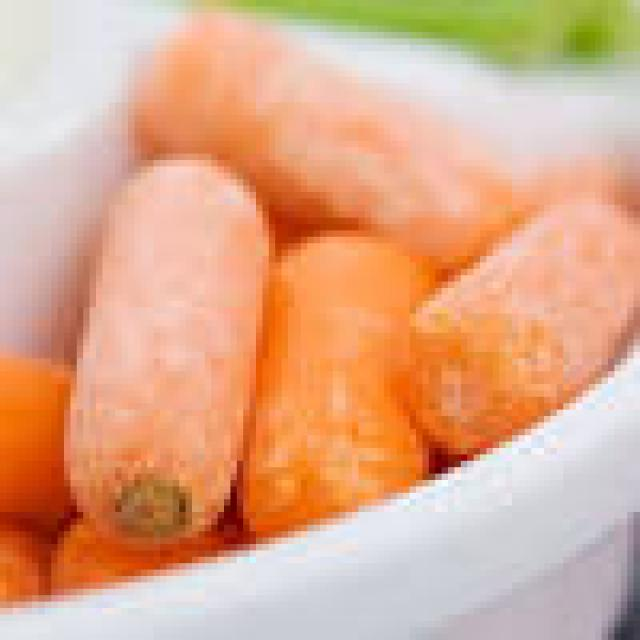Fresh_Carrot: (7, 38, 597, 520)
